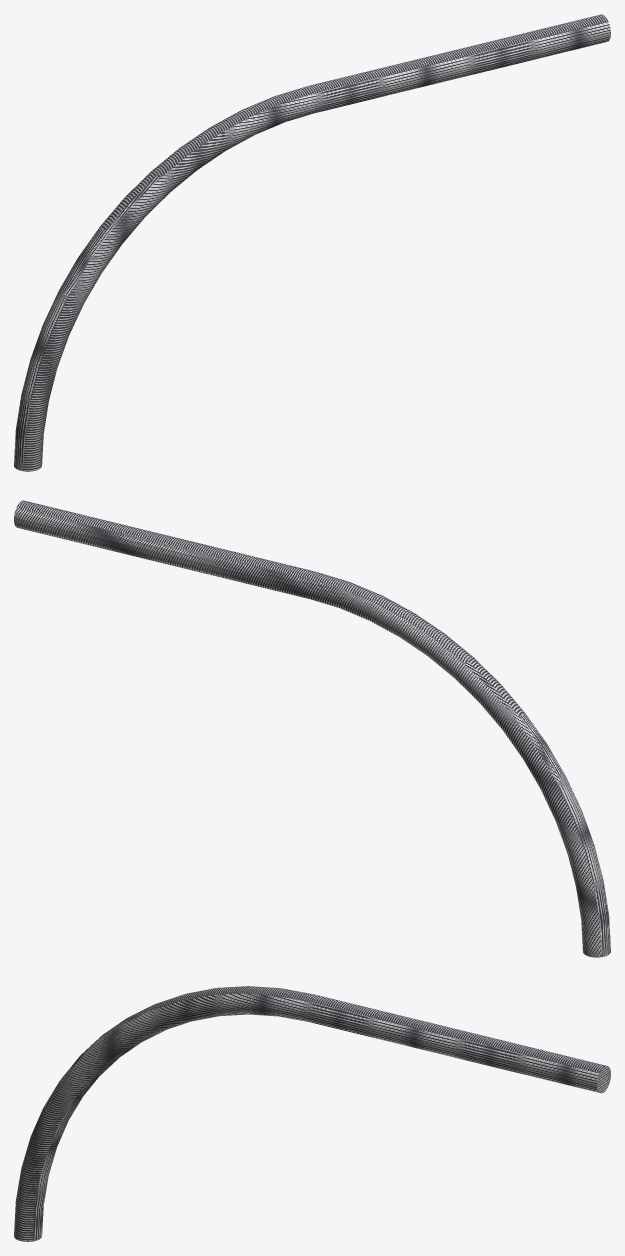
The model's file is pipe.FBX.
3 renders of one model, top to bottom at view 1: azimuth 30°, elevation 25°; view 2: azimuth 150°, elevation 25°; view 3: azimuth 330°, elevation 25°, orthographic.
Visible parts, largest first — view 1: Cylinder001; view 2: Cylinder001; view 3: Cylinder001.
Part boxes in pixels (x1,y1,x2,y2): Cylinder001: (14,14,610,471); Cylinder001: (14,500,610,957); Cylinder001: (14,986,610,1241).
Size of the model in its own units: 122 by 5.04 by 61.42.
Materials: 1 (1 with a texture image).
